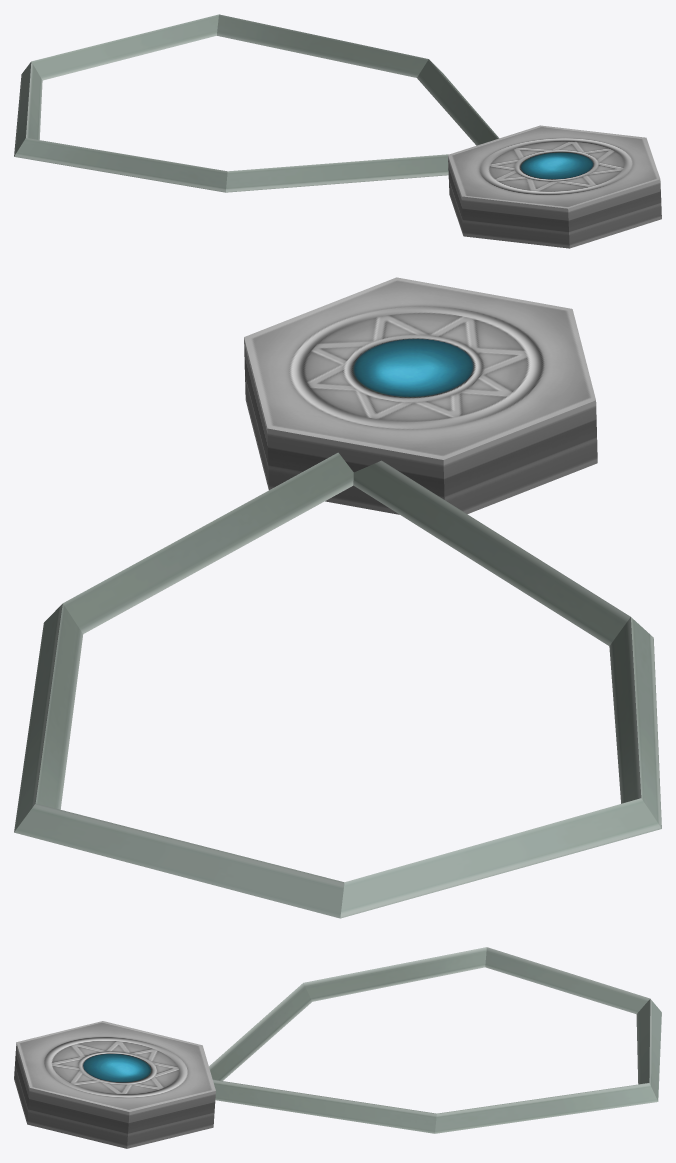
Rendered from amulet_01.fbx.
The picture shows the model from 3 angles, top to bottom: view 1: azimuth 30°, elevation 25°; view 2: azimuth 150°, elevation 25°; view 3: azimuth 270°, elevation 25°; orthographic projection. The views are drawn at different scales.
Parts seen in each view (by area): view 1: amulet_01:Mesh; view 2: amulet_01:Mesh; view 3: amulet_01:Mesh.
Boxes of the visible parts, bbox=[...] form: amulet_01:Mesh: bbox=[14, 14, 661, 248]; amulet_01:Mesh: bbox=[14, 277, 661, 918]; amulet_01:Mesh: bbox=[14, 947, 661, 1148].
Size of the model in its own units: 0.7272 by 0.1059 by 0.9806.
1 material, 1 textured.
